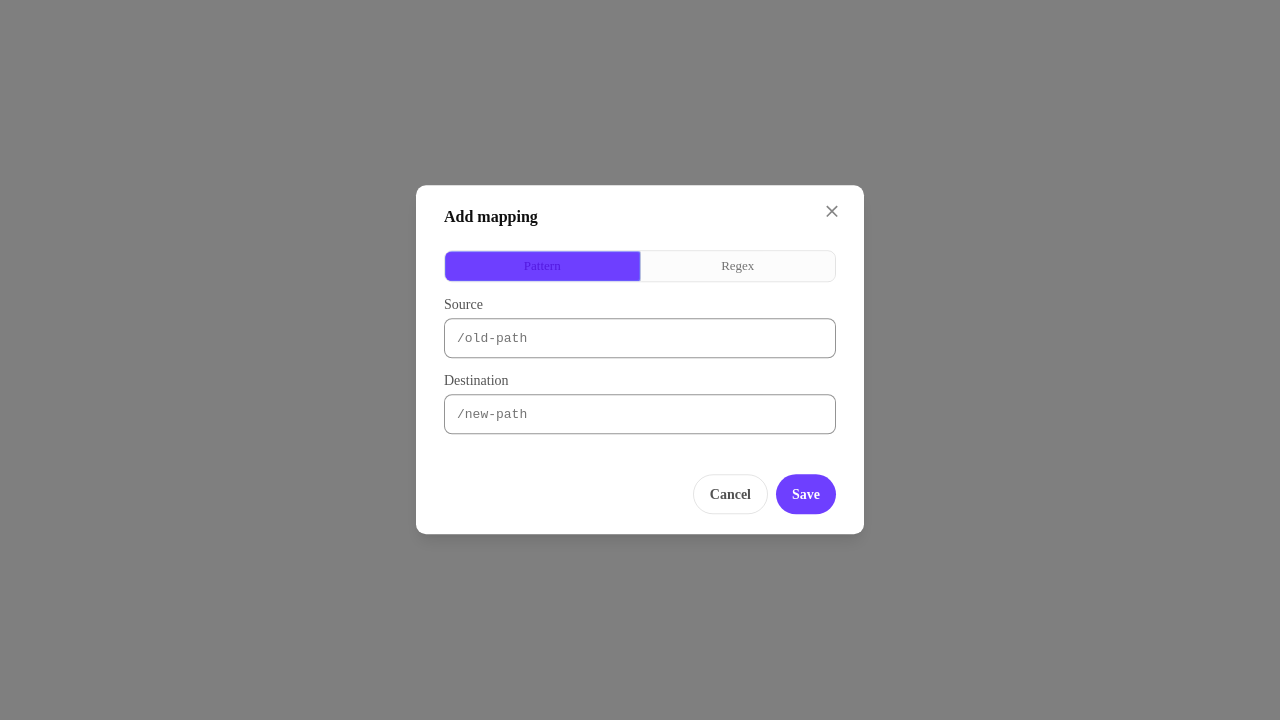
Scenario: T023a/T023 — Save-time validation › $3 reference when source has only 1 group → rejected with correct count message
Click the button "Regex" at [737, 266], box [640, 251, 835, 282]
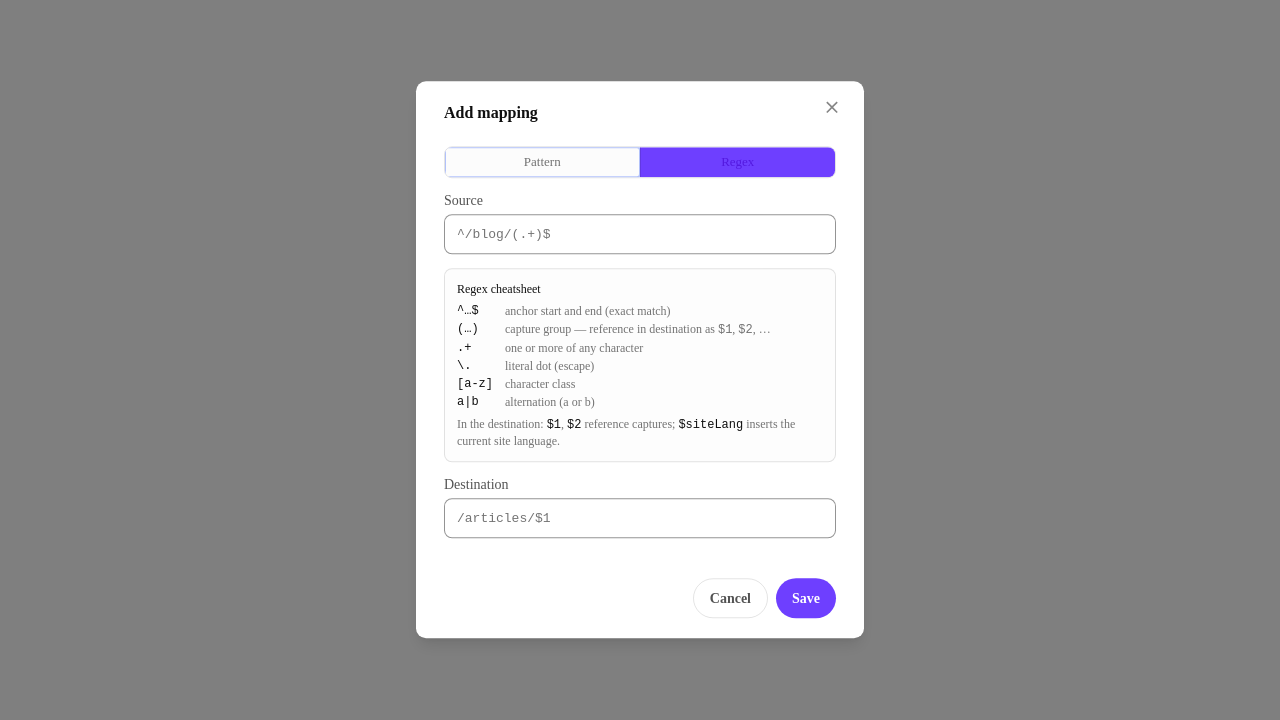
Type "^/test/(.+)$" into the field labelled "Source" at [640, 235], box [444, 215, 836, 255]
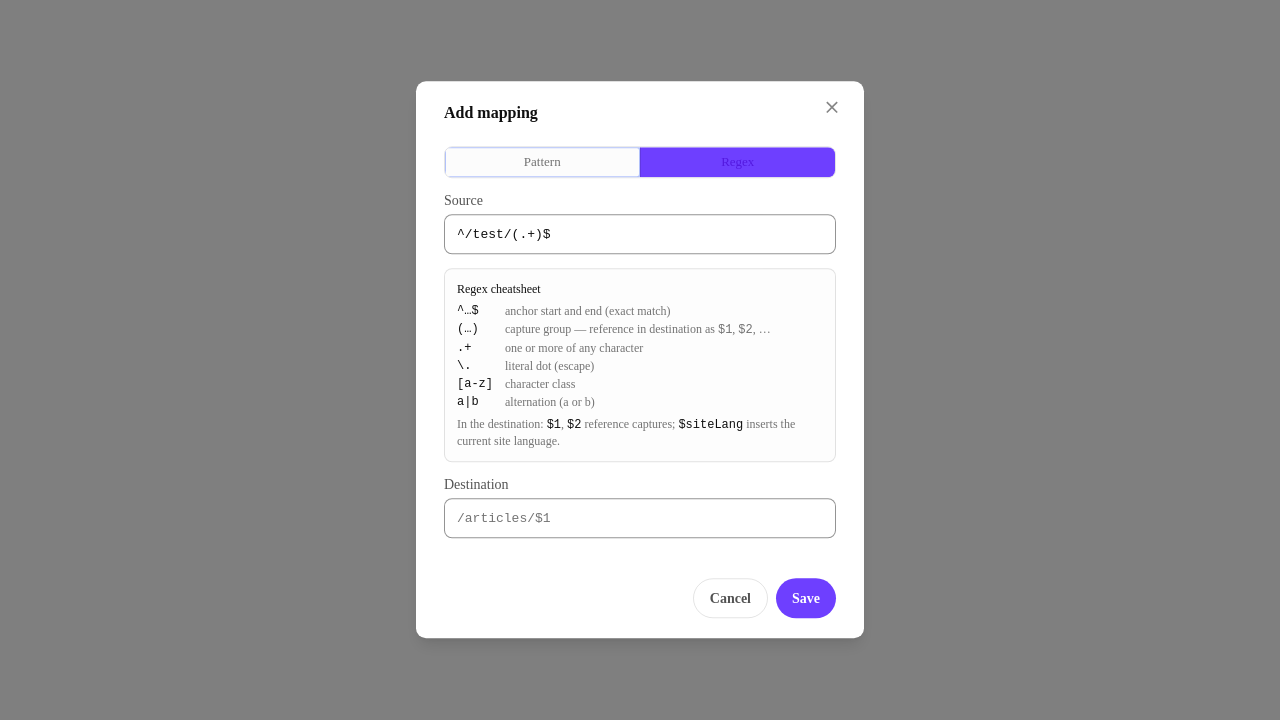
Type "/dest/$3" into the field labelled "Destination" at [640, 519], box [444, 499, 836, 539]
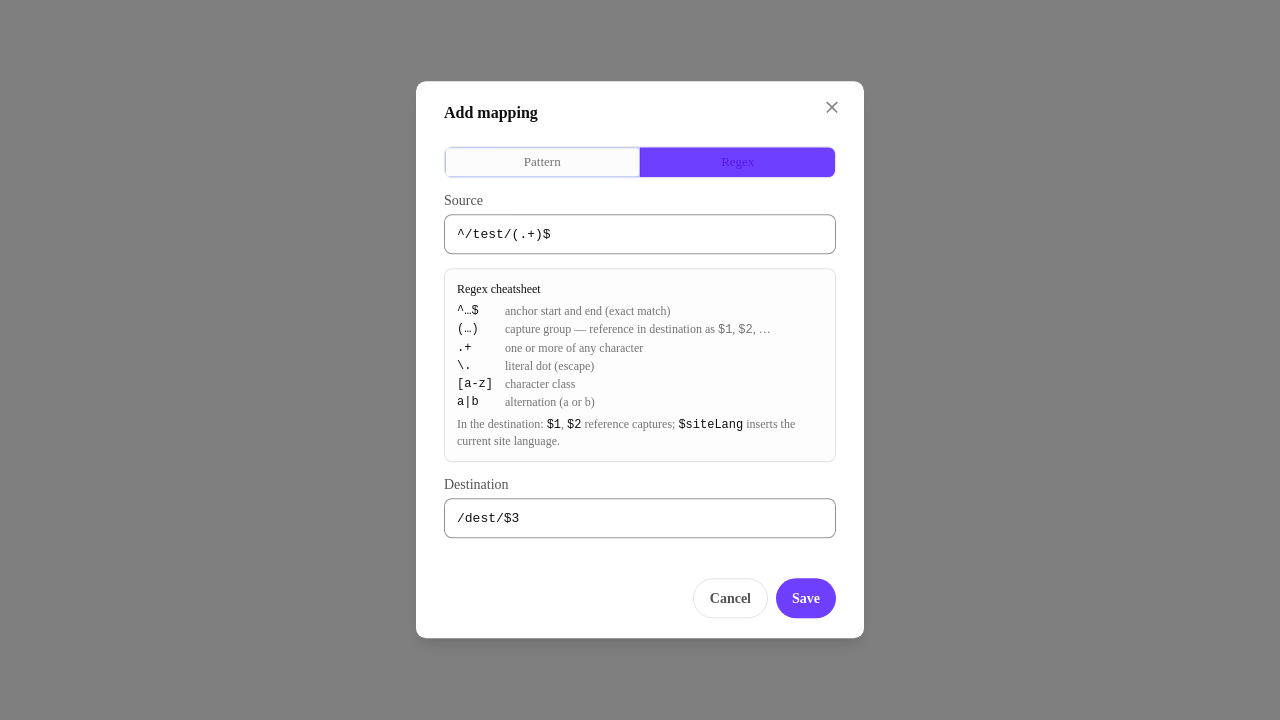
Click the button "Save" at [806, 599], box [776, 579, 836, 619]
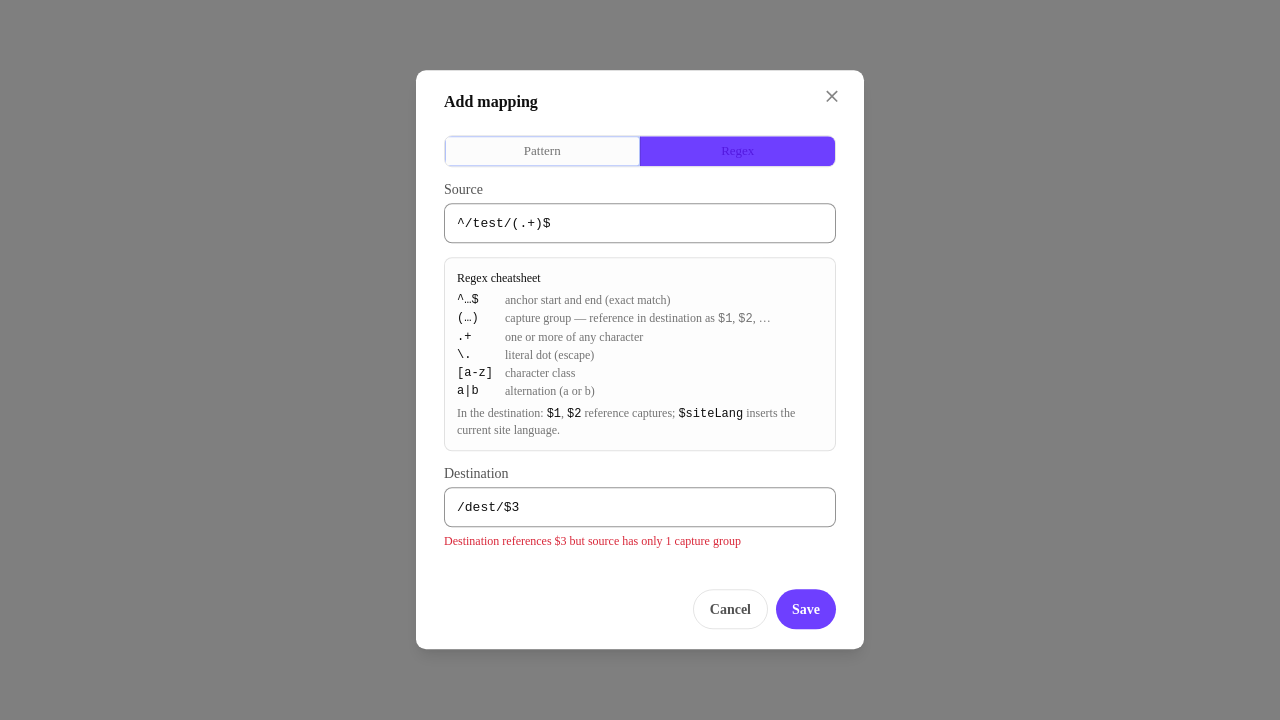
Result: the message reads "Destination references $3 but source has only 1 capture group" at [444, 535, 741, 549]
